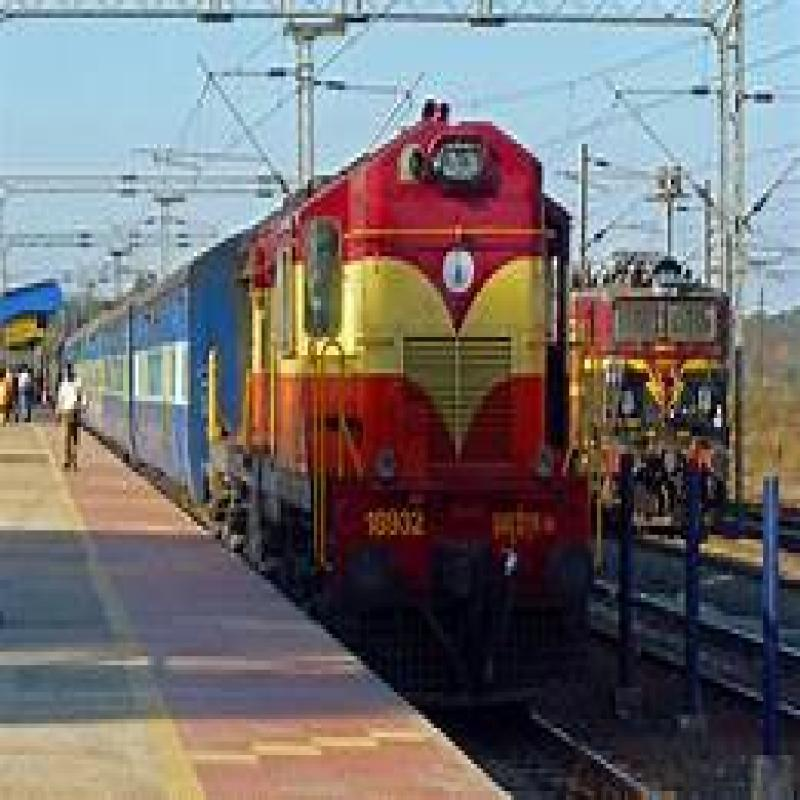train: (100, 230, 580, 612)
